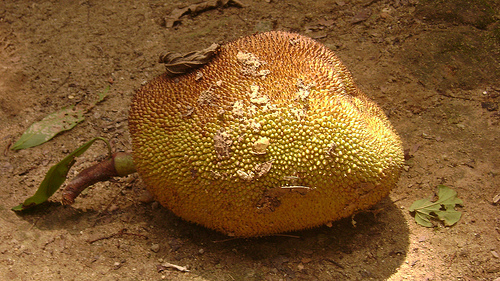jackfruit: (15, 31, 405, 236)
